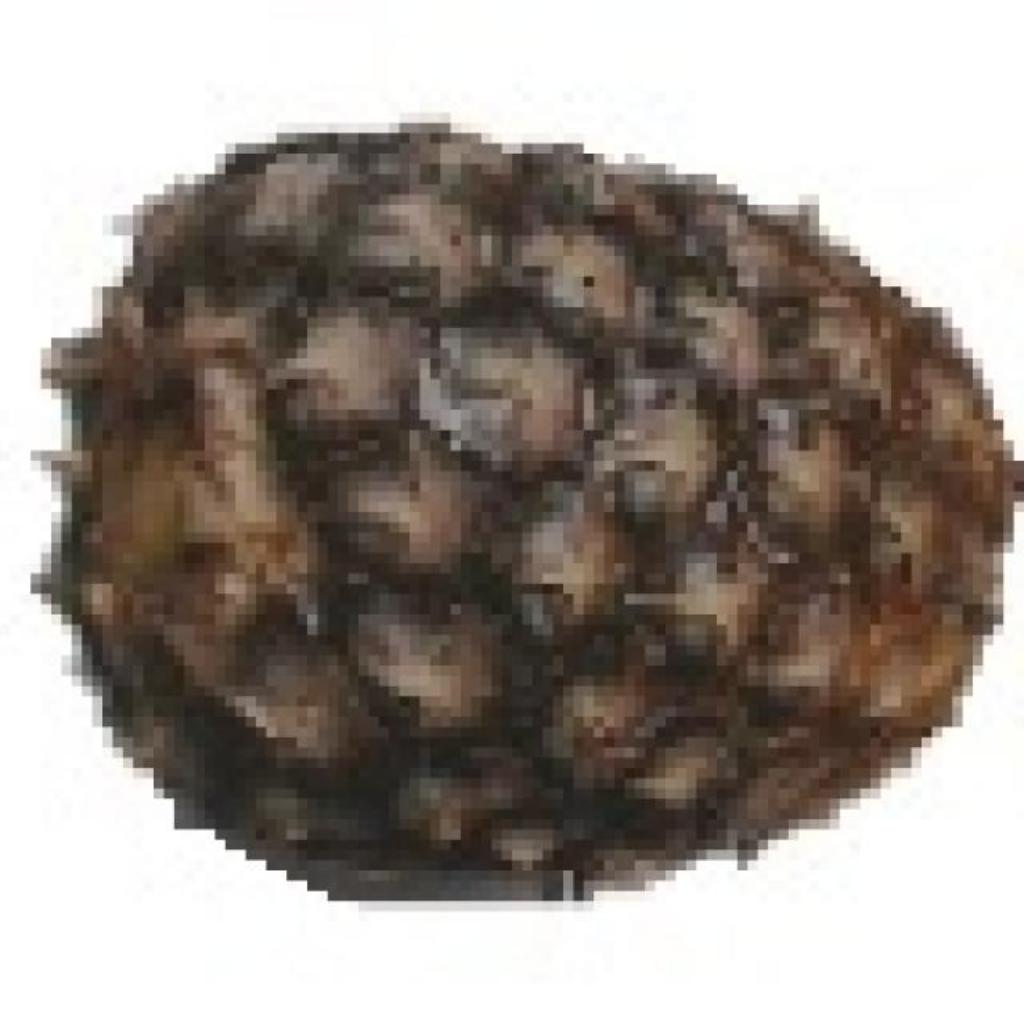pineapple: (72, 113, 1024, 881)
